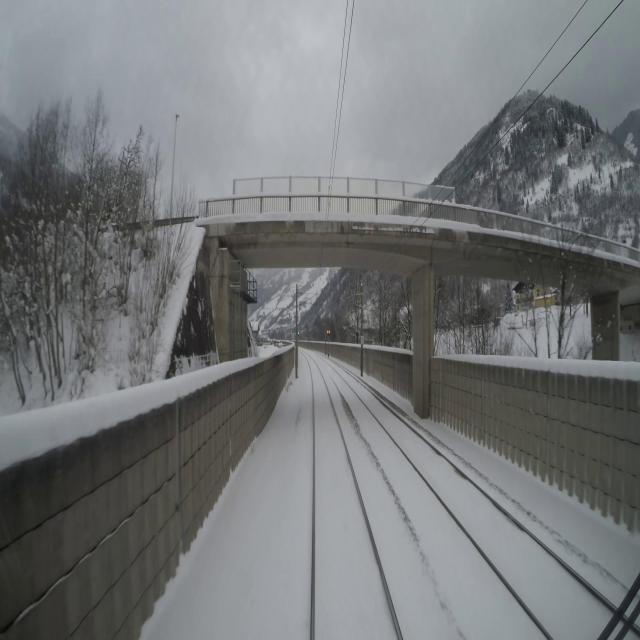rail-track: (339, 369, 614, 639), (309, 359, 397, 639)
